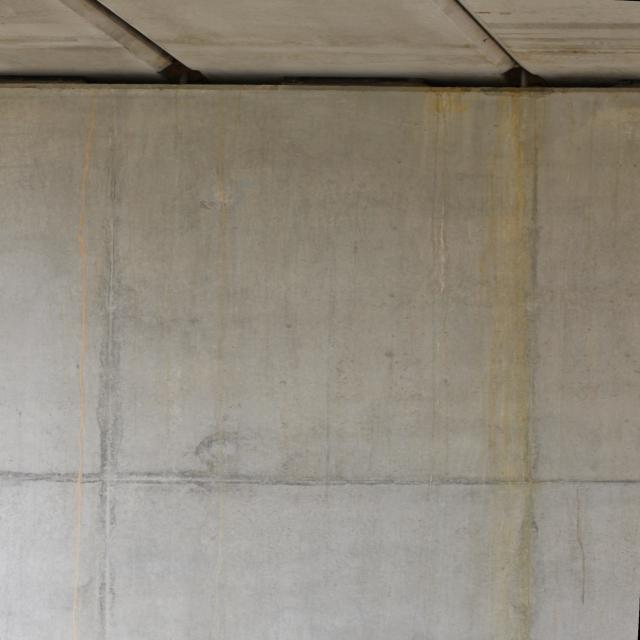corrosion: (476, 90, 546, 395), (421, 85, 472, 115)
